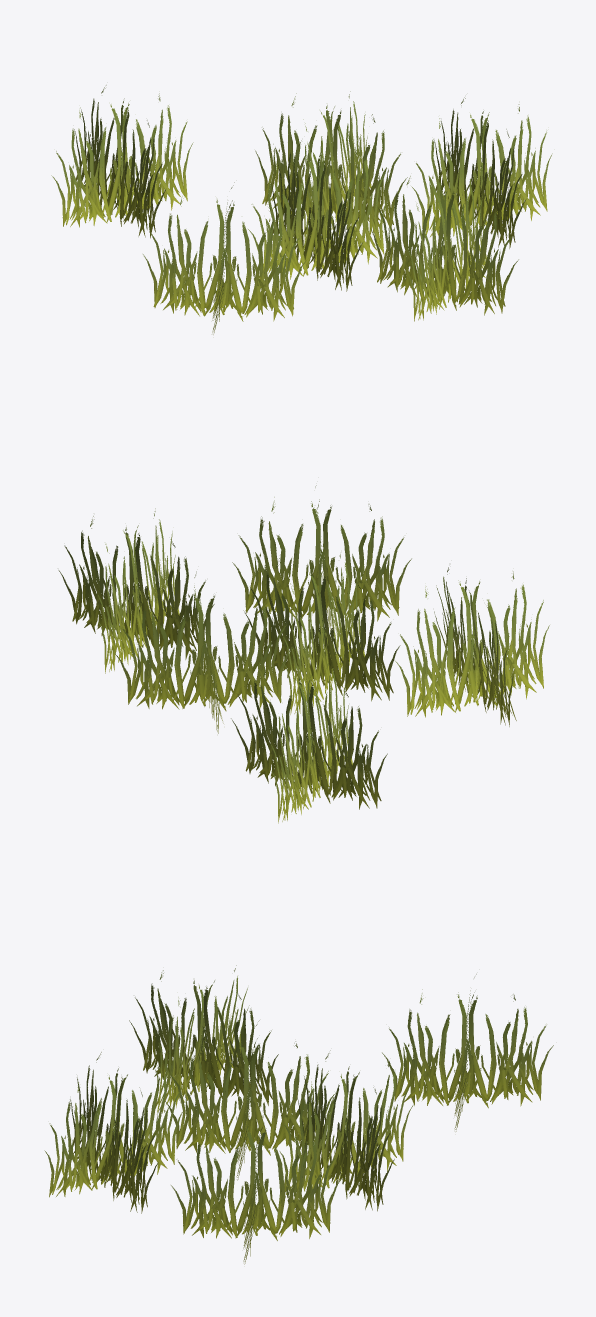
Rendered from Grass.FBX.
The picture shows the model from 3 angles, top to bottom: view 1: azimuth 30°, elevation 25°; view 2: azimuth 150°, elevation 25°; view 3: azimuth 270°, elevation 25°; orthographic projection. The views are drawn at different scales.
Parts seen in each view (by area): view 1: Plane005, Plane006, Plane011, Plane012, Plane018, Plane017, Plane014, Plane022, Plane021, Plane004, Plane013, Plane003 (+10 smaller); view 2: Plane002, Plane001, Plane008, Plane007, Plane009, Plane010, Plane018, Plane022, Plane014, Plane017, Plane013, Plane021 (+8 smaller); view 3: Plane016, Plane020, Plane015, Plane019, Plane024, Plane023, Plane012, Plane008, Plane011, Plane007, Plane001, Plane004 (+6 smaller).
Part boxes in pixels (<box>): Plane005: <box>150,202,306,321</box>; Plane006: <box>143,196,299,316</box>; Plane011: <box>377,191,518,315</box>; Plane012: <box>370,176,512,307</box>; Plane018: <box>51,104,187,227</box>; Plane017: <box>56,93,193,225</box>; Plane014: <box>411,114,546,236</box>; Plane022: <box>248,156,384,279</box>; Plane021: <box>251,147,389,279</box>; Plane004: <box>255,93,400,224</box>; Plane013: <box>416,104,552,236</box>; Plane003: <box>262,110,407,234</box>; Plane002: <box>122,592,293,711</box>; Plane001: <box>115,588,286,708</box>; Plane008: <box>394,580,543,717</box>; Plane007: <box>400,571,549,715</box>; Plane009: <box>232,497,404,618</box>; Plane010: <box>238,504,411,621</box>; Plane018: <box>237,680,387,809</box>; Plane022: <box>250,572,400,701</box>; Plane014: <box>64,530,214,659</box>; Plane017: <box>231,666,381,800</box>; Plane013: <box>58,516,207,650</box>; Plane021: <box>243,558,393,693</box>; Plane016: <box>176,1126,342,1240</box>; Plane020: <box>389,994,553,1108</box>; Plane015: <box>171,1122,335,1238</box>; Plane019: <box>382,989,546,1105</box>; Plane024: <box>171,1041,335,1155</box>; Plane023: <box>165,1040,328,1152</box>; Plane012: <box>49,1063,185,1194</box>; Plane008: <box>135,983,278,1106</box>; Plane011: <box>44,1074,181,1197</box>; Plane007: <box>129,970,272,1099</box>; Plane001: <box>299,1064,394,1211</box>; Plane004: <box>284,1061,414,1194</box>.
Size of the model in its own units: 78.19 by 79.08 by 27.58.
Materials: 1 (1 with a texture image).
